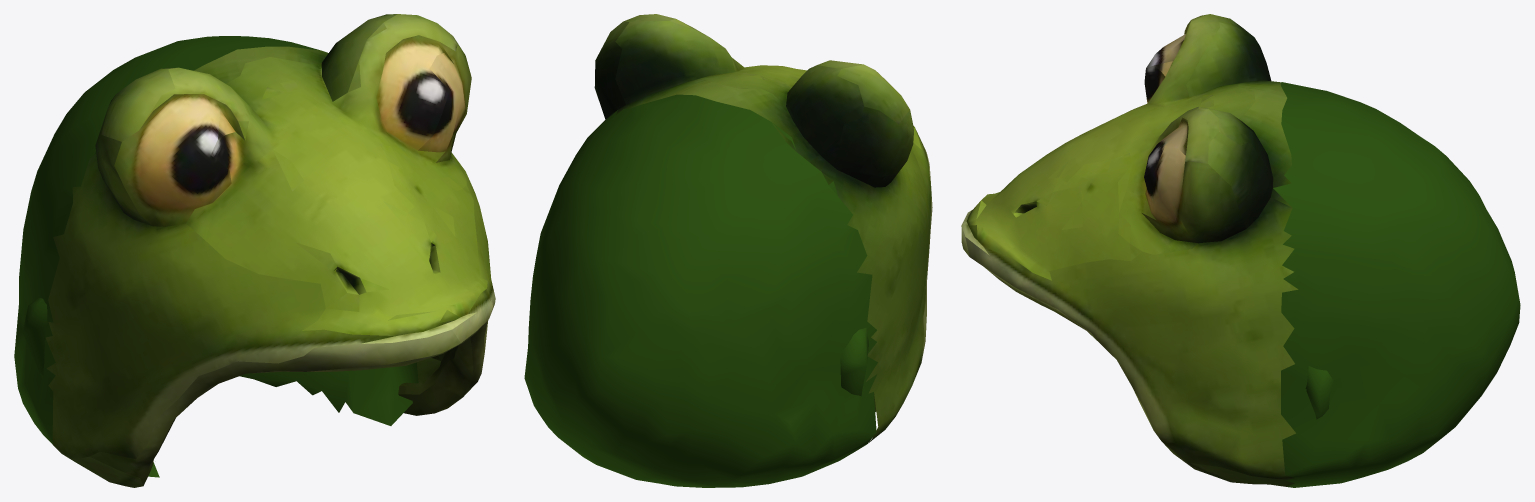
The model's file is frog.glb.
The picture shows the model from 3 angles, left to right: view 1: azimuth 30°, elevation 25°; view 2: azimuth 150°, elevation 25°; view 3: azimuth 270°, elevation 25°; orthographic projection. The views are drawn at different scales.
Visible parts, largest first — view 1: geometry_0, HoodAnatomicalLining; view 2: geometry_0, HoodAnatomicalLining; view 3: geometry_0, HoodAnatomicalLining.
Boxes of the visible parts, box(x1,y1,x2,y2) form: geometry_0: box(14, 14, 495, 487); HoodAnatomicalLining: box(22, 152, 418, 477); geometry_0: box(524, 14, 932, 487); HoodAnatomicalLining: box(829, 181, 868, 396); geometry_0: box(961, 14, 1520, 487); HoodAnatomicalLining: box(1305, 366, 1333, 419).
Size of the model in its own units: 0.4602 by 0.4805 by 0.6712.
2 materials, 1 textured.
